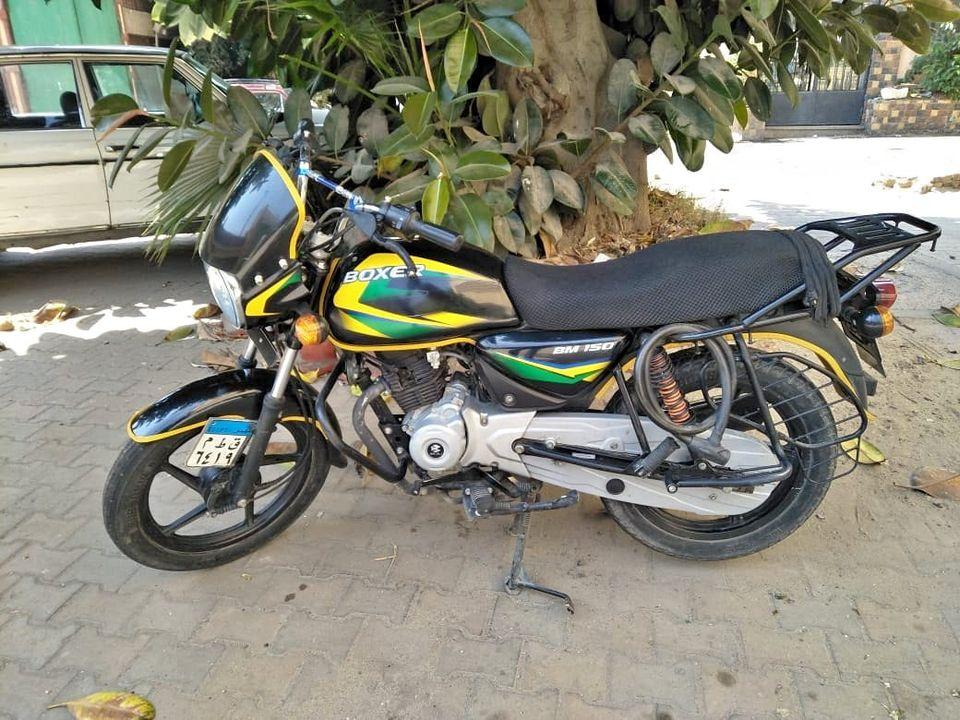License Plate: (189, 421, 252, 470)
